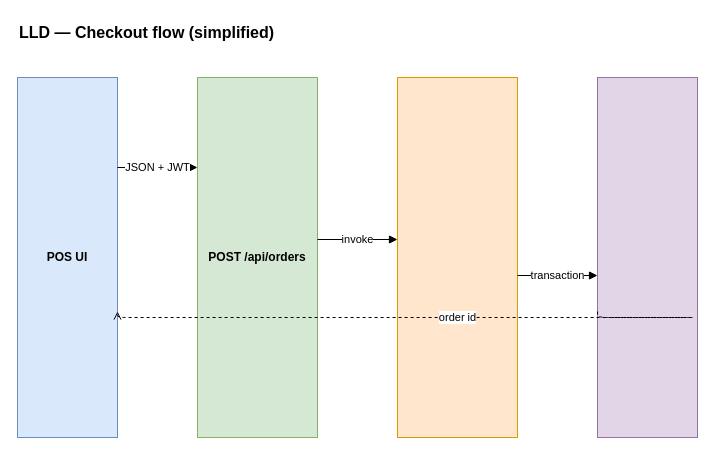
This 723x455 diagram has some shape labels left out. Each missing label, with the box of its shape:
checkout-order service: (396, 76, 518, 438)
PostgreSQL: (596, 76, 698, 438)
